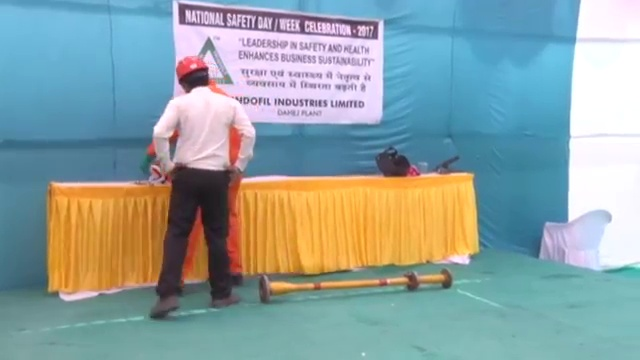helmet: (176, 55, 207, 79)
helmet_on: (175, 53, 210, 93)
person: (148, 52, 256, 316)
